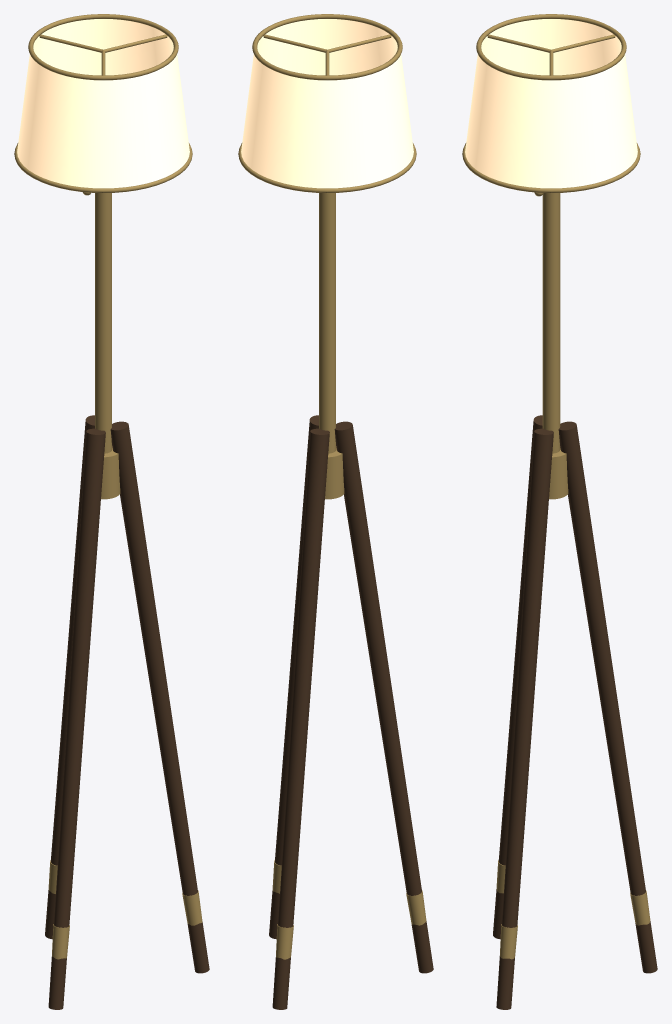
File: atelier-lamp-tripod-warm.glb
3 views of the same model, side by side, from view 1: azimuth 30°, elevation 25°; view 2: azimuth 150°, elevation 25°; view 3: azimuth 270°, elevation 25° (orthographic).
Bounding box in the file's own units: 0.3003 × 1.65 × 0.3155.
